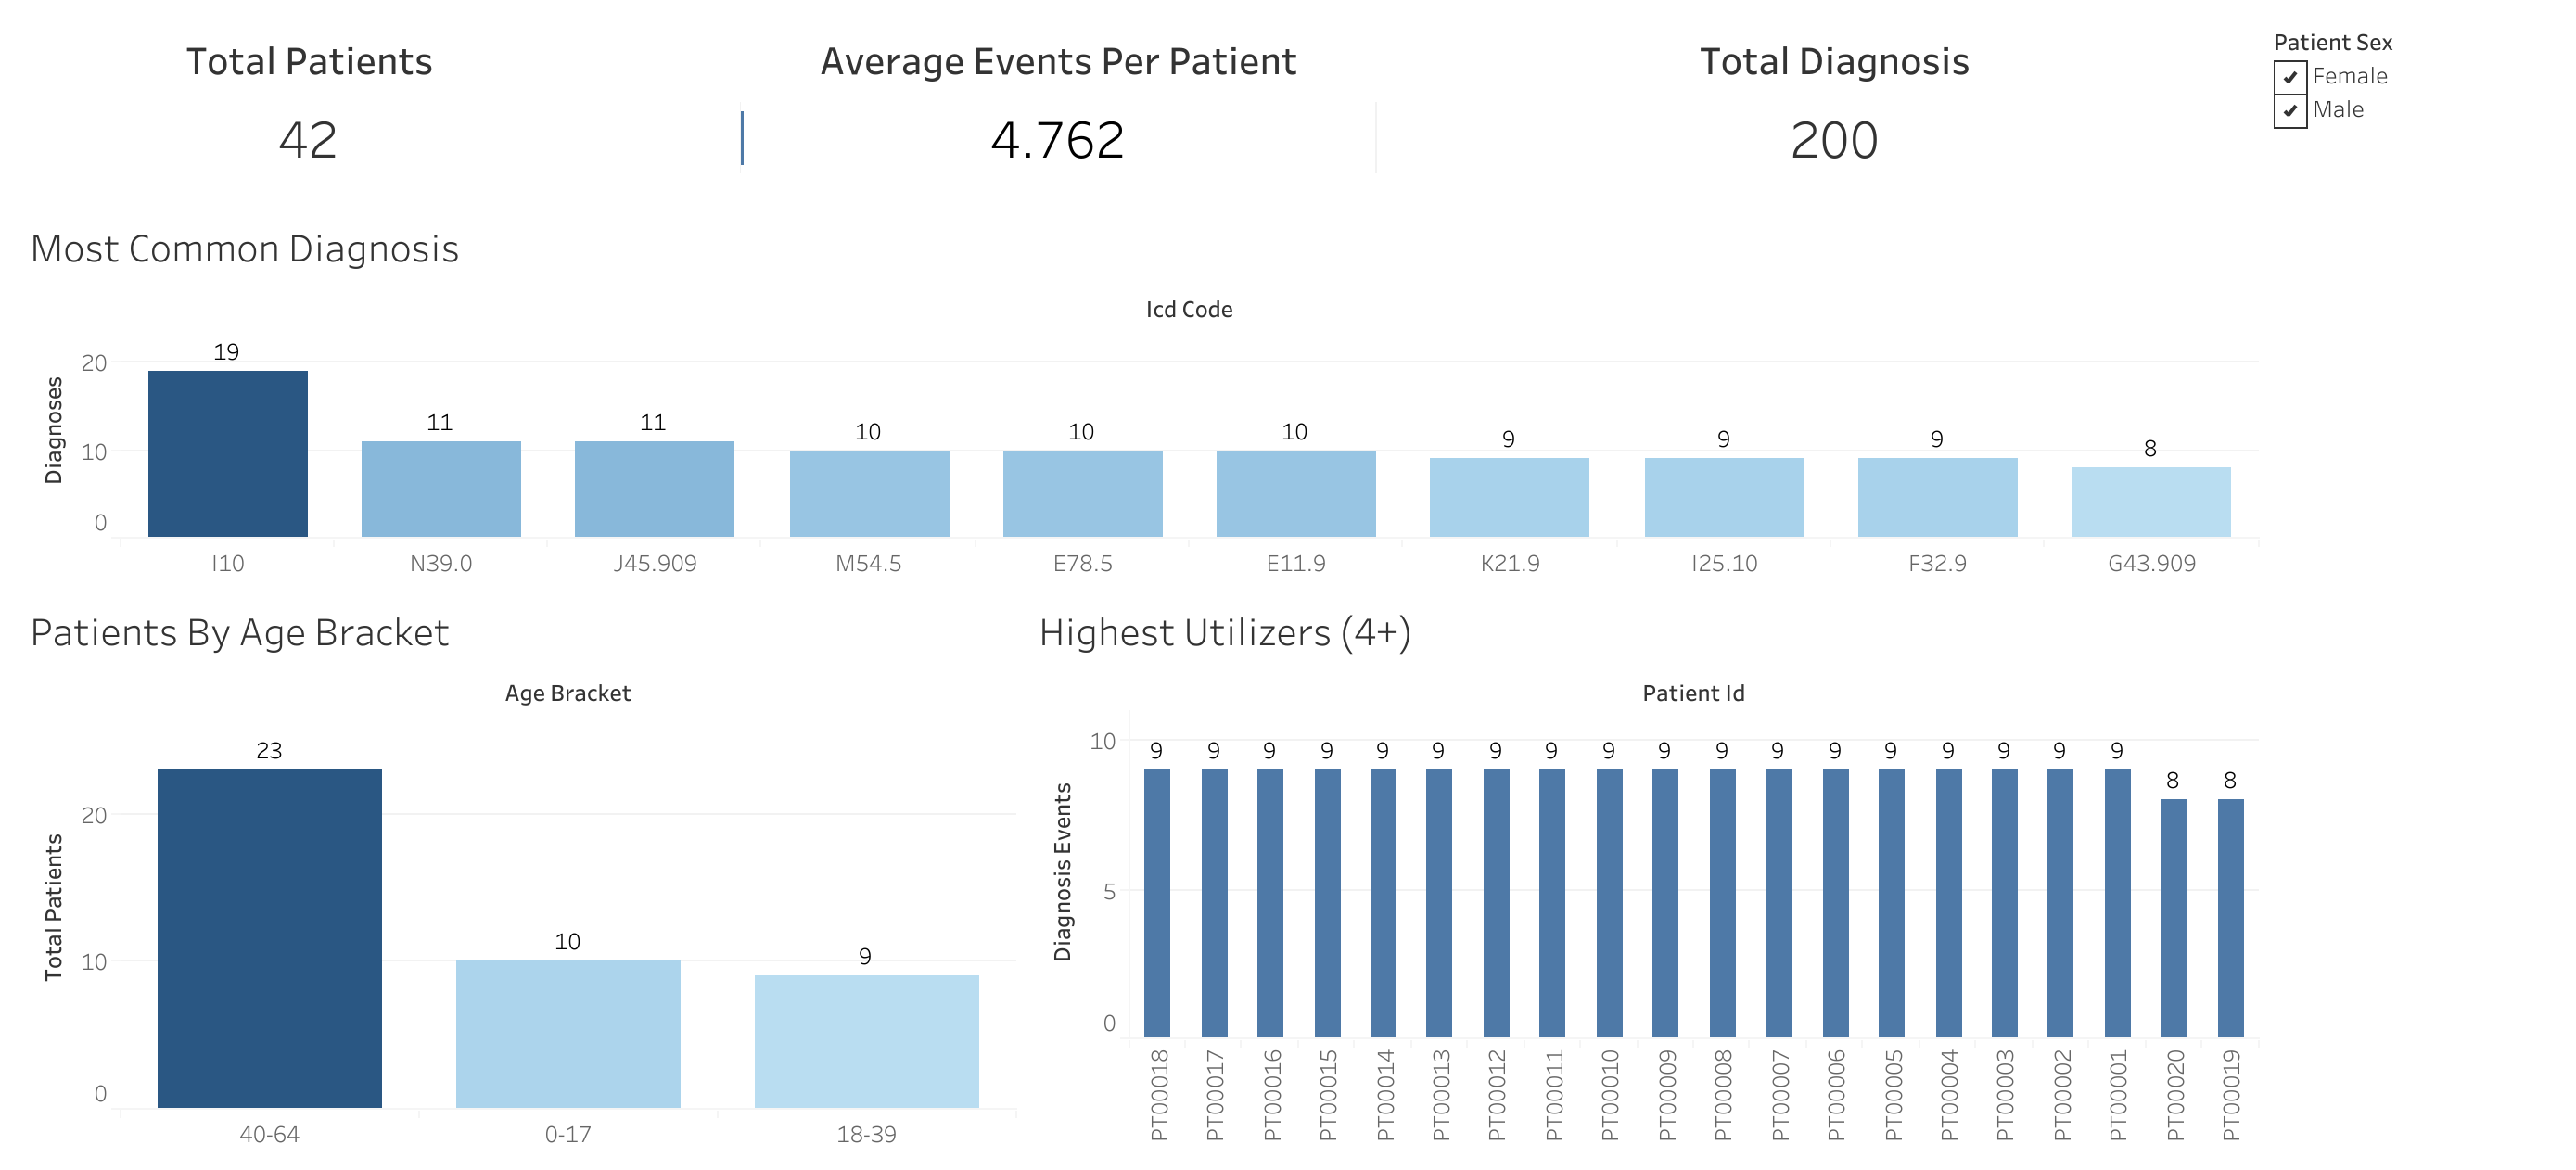

Layout of this report page (visuals, bound fields, positions):
{"tool":"tableau","page":{"name":"Dashboard 1","canvas":[1000,1000],"units":"permille","ordinal":0},"visuals":[{"type":"worksheet","title":"Sheet 4","mark":"Automatic","box":[6.5,10.7,273.4,160]},{"type":"worksheet","title":"Sheet 1","mark":"Bar","box":[279.9,10.7,300.2,160]},{"type":"worksheet","title":"Sheet 7","mark":"Automatic","box":[580.1,10.7,283.2,160]},{"type":"filter","title":"Sheet 2","param":"[federated.0dl50x213pnb431gqooap0i86wf0].[none:patient_sex:nk]","box":[863.3,10.7,130.2,118.7]},{"type":"worksheet","title":"Sheet 2","mark":"Automatic","rows":["diagnoses"],"cols":["icd_code"],"box":[6.5,170.7,856.8,329.3]},{"type":"worksheet","title":"Sheet 5","mark":"Automatic","rows":["total_patients"],"cols":["age_bracket"],"box":[6.5,500,384.1,489.3]},{"type":"worksheet","title":"Sheet 3","mark":"Automatic","rows":["diagnosis_events"],"cols":["patient_id"],"box":[390.6,500,472.7,489.3]}]}

Visuals, with their boxes on the dashboard's canvas, which has no fixed pixel size, in thousandths of its width and height (x1, y1, x2, y2). These are canvas units, not pixel positions in the 2576x1170 screenshot, which may show the page scaled, cropped or inside an application window:
"Sheet 4" worksheet: (6, 11, 280, 171)
"Sheet 1" worksheet (Bar marks): (280, 11, 580, 171)
"Sheet 7" worksheet: (580, 11, 863, 171)
"Sheet 2" filter: (863, 11, 994, 129)
"Sheet 2" worksheet: (6, 171, 863, 500)
"Sheet 5" worksheet: (6, 500, 391, 989)
"Sheet 3" worksheet: (391, 500, 863, 989)
